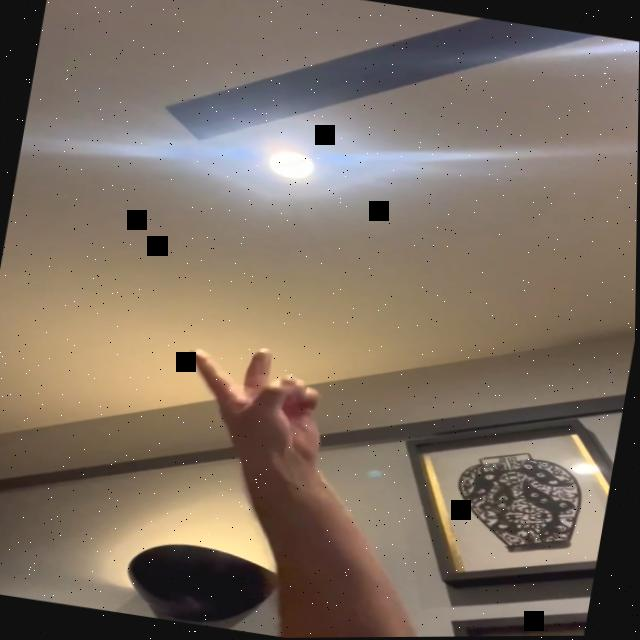Scissors: (165, 336, 339, 484)
